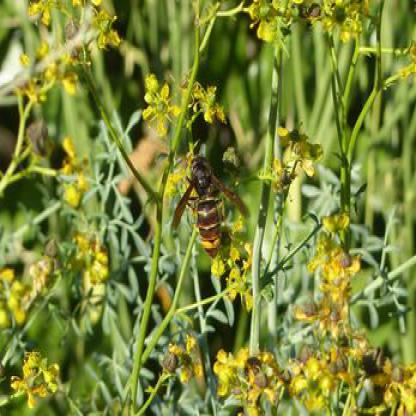Asian Hornet: (170, 151, 237, 259)
